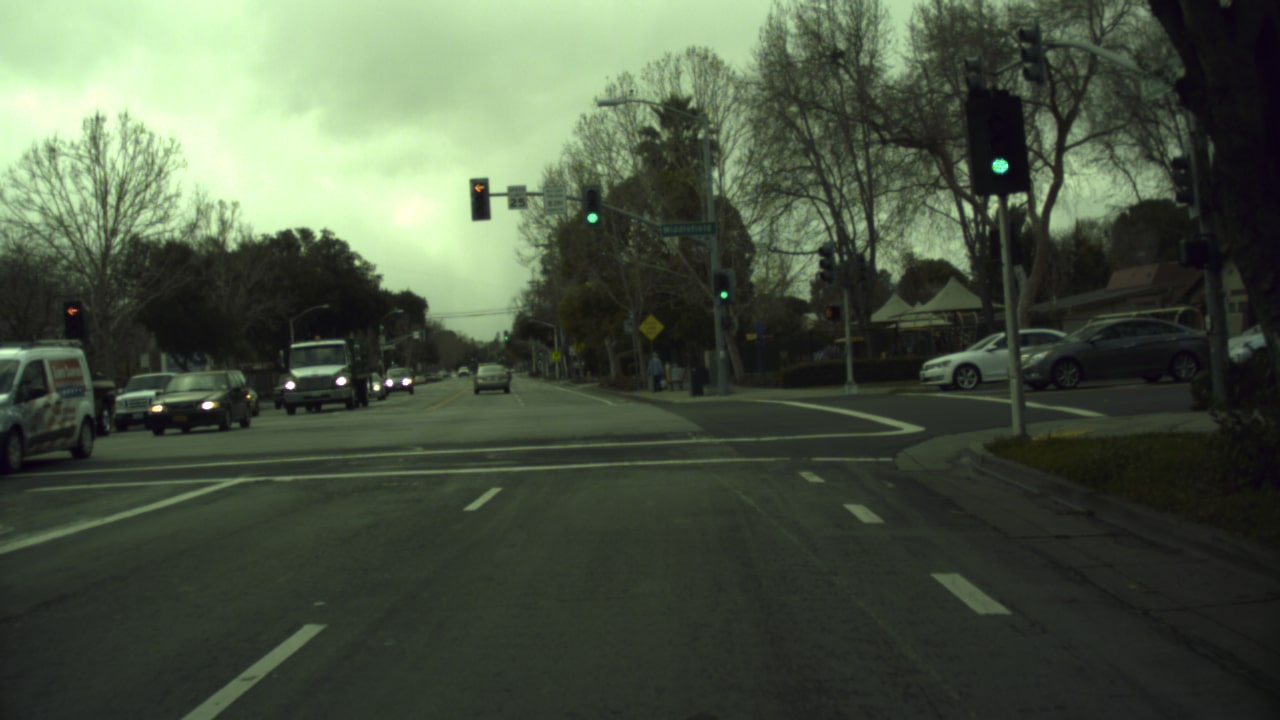signal: (973, 95, 1024, 189), (468, 177, 489, 218), (581, 186, 601, 229), (61, 301, 85, 333), (713, 274, 731, 303)
